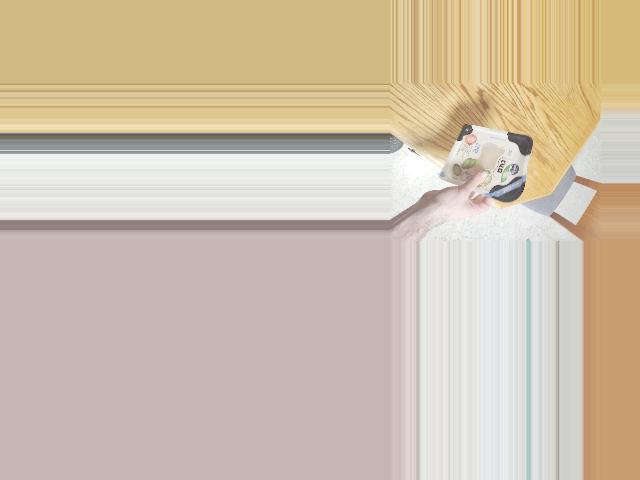cheese: (454, 126, 530, 200)
